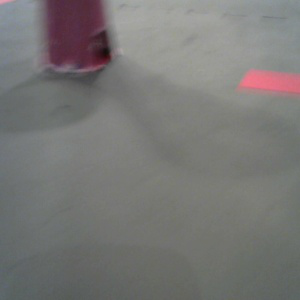middle: (41, 1, 123, 75)
